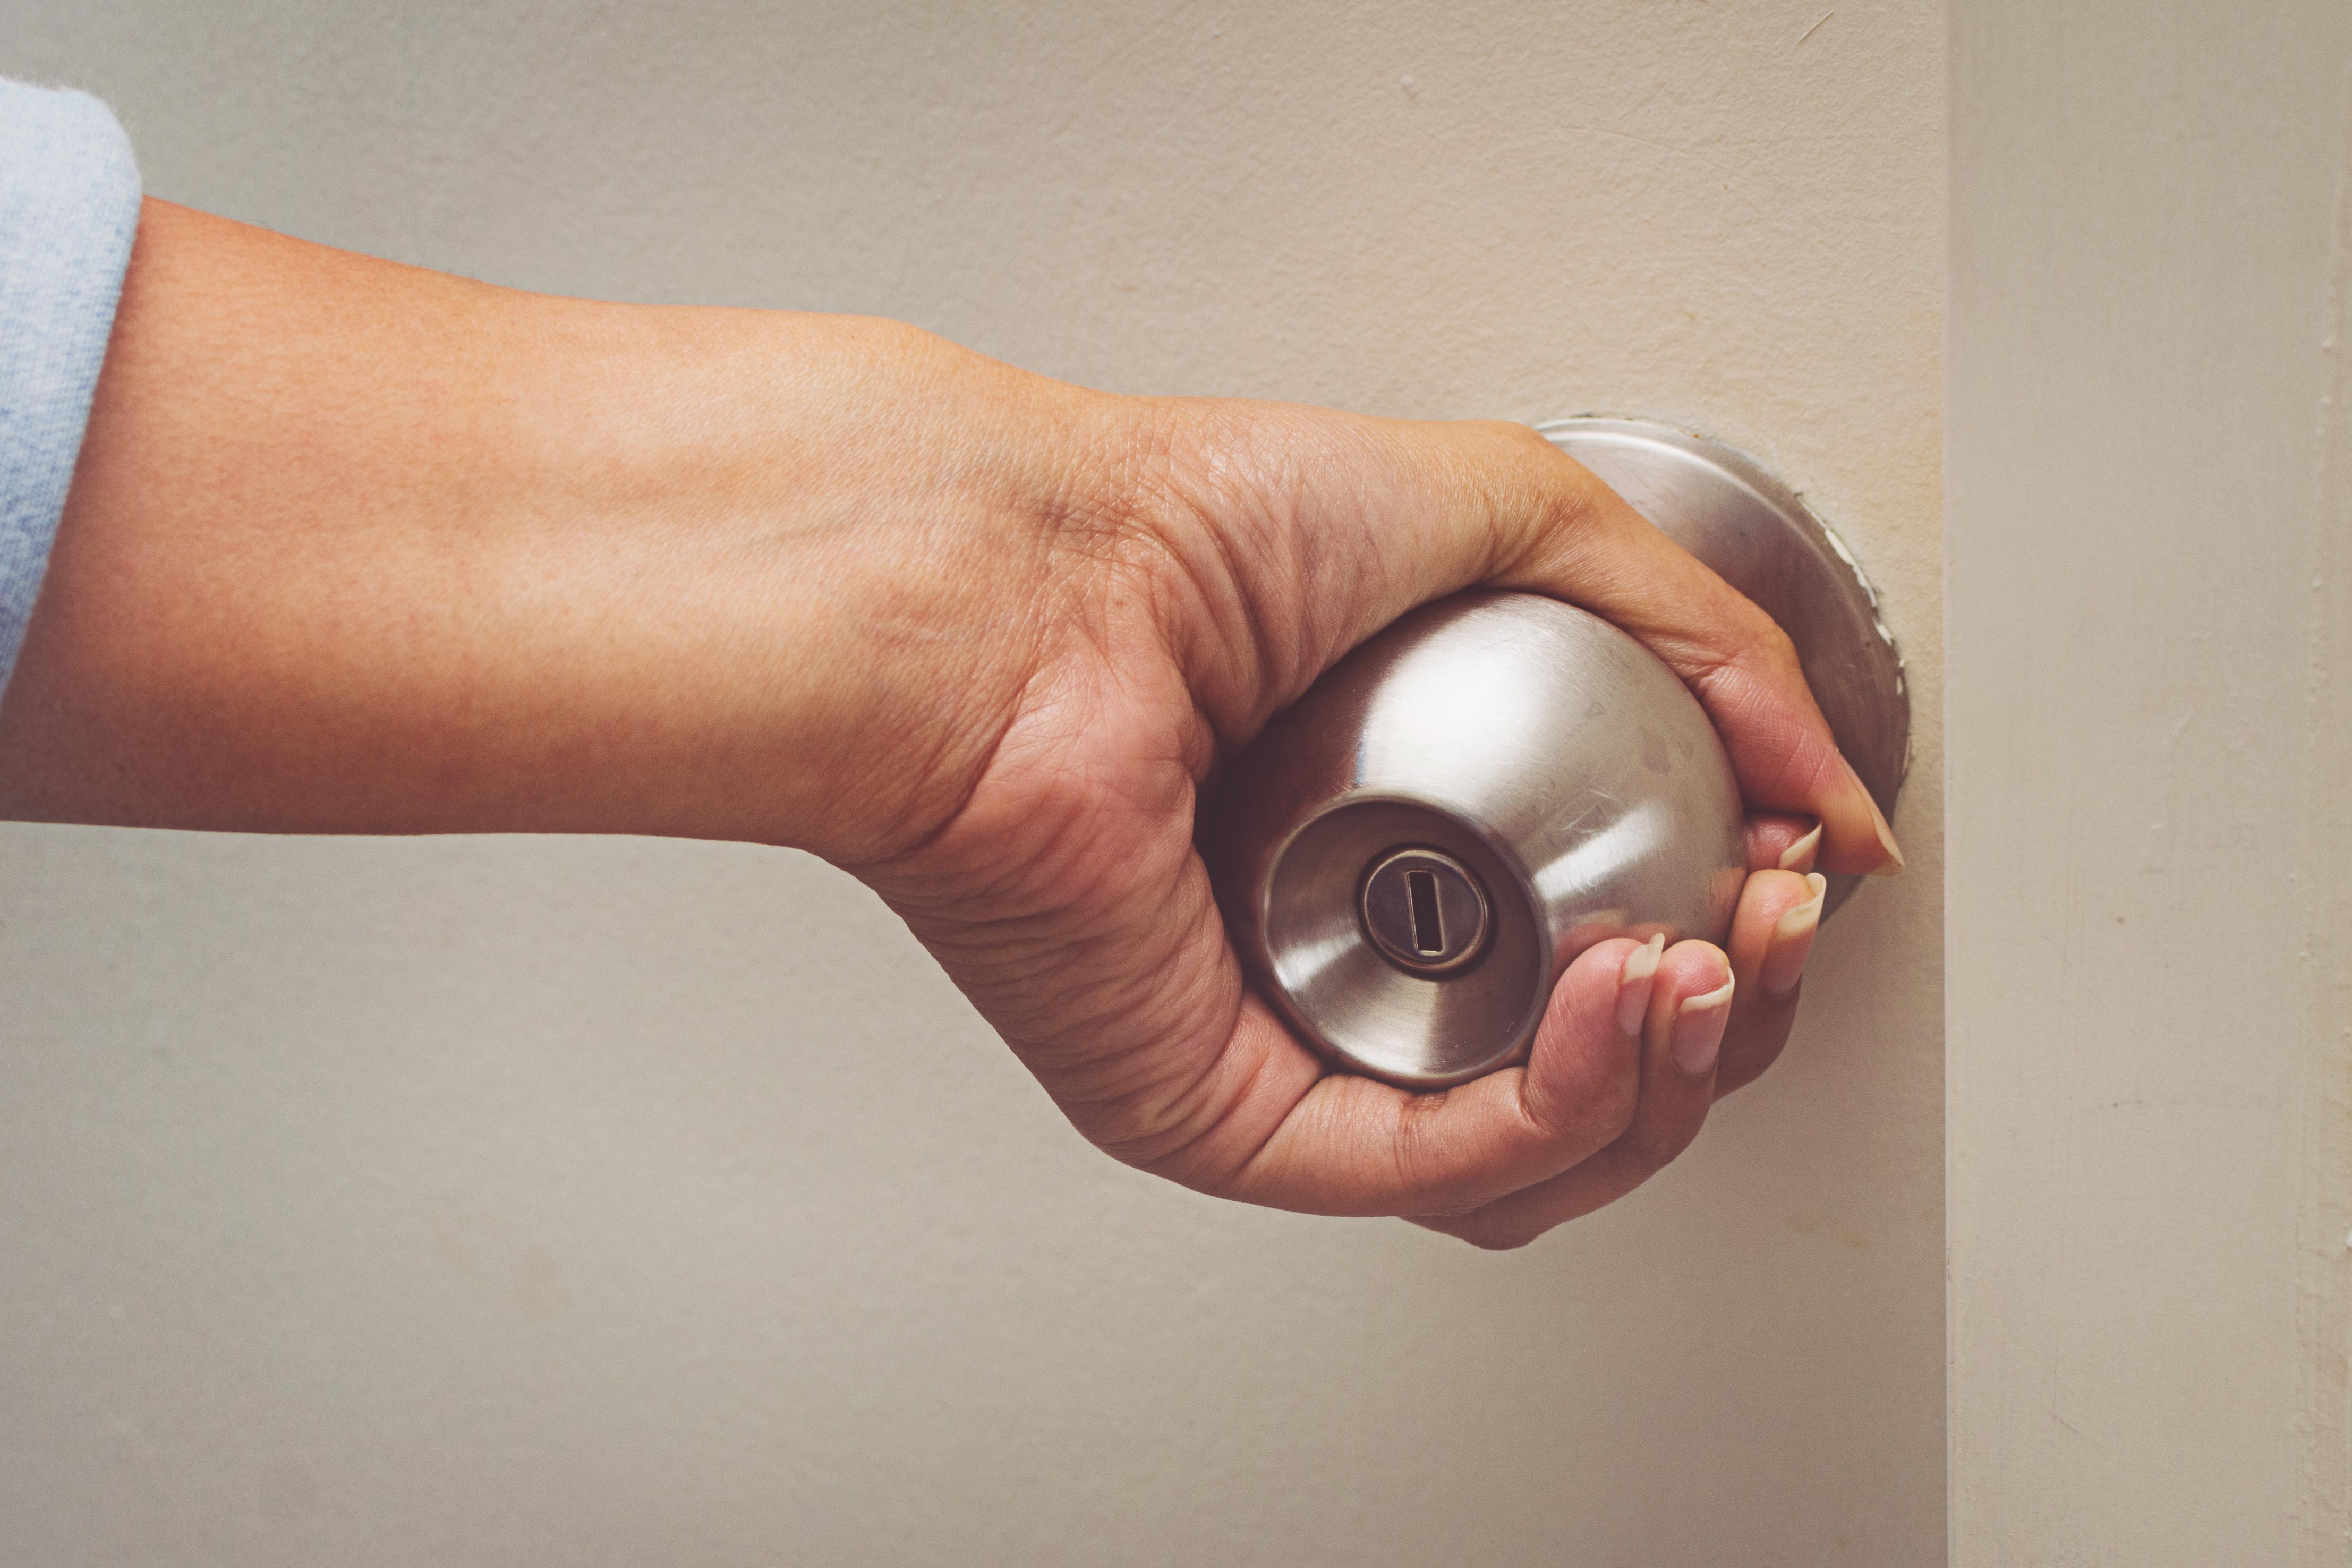doorhandle: (1143, 338, 1983, 1117)
